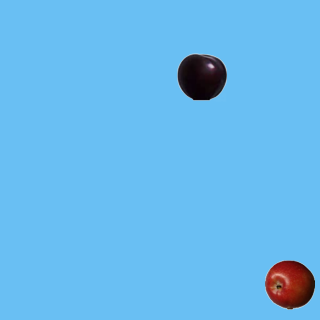Apple Braeburn: (264, 259, 314, 309)
Cherry Wax Black: (176, 51, 226, 101)
